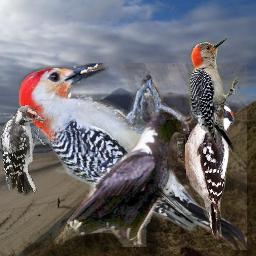Crow: (63, 106, 189, 247)
Woodpecker: (19, 63, 247, 250), (177, 95, 235, 240), (185, 34, 238, 160), (0, 105, 47, 196)
